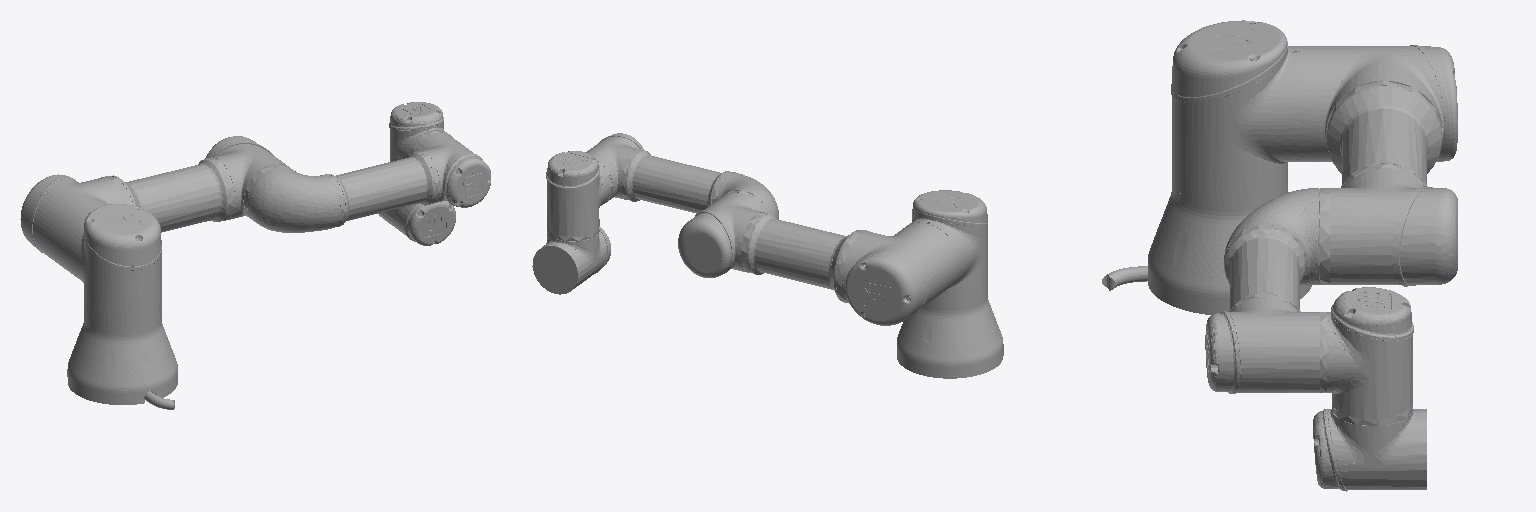
URDF robot description (ur3):
<?xml version="1.0" encoding="utf-8"?>
<!-- =================================================================================== -->
<!-- |    This document was autogenerated by xacro from ur3_robot.urdf.xacro           | -->
<!-- |    EDITING THIS FILE BY HAND IS NOT RECOMMENDED                                 | -->
<!-- =================================================================================== -->
<robot name="ur3" xmlns:xacro="http://wiki.ros.org/xacro">
  <gazebo>
    <plugin filename="libgazebo_ros_control.so" name="ros_control">
      <!--robotNamespace>/</robotNamespace-->
      <!--robotSimType>gazebo_ros_control/DefaultRobotHWSim</robotSimType-->
    </plugin>
    <!--
    <plugin name="gazebo_ros_power_monitor_controller" filename="libgazebo_ros_power_monitor.so">
      <alwaysOn>true</alwaysOn>
      <updateRate>1.0</updateRate>
      <timeout>5</timeout>
      <powerStateTopic>power_state</powerStateTopic>
      <powerStateRate>10.0</powerStateRate>
      <fullChargeCapacity>87.78</fullChargeCapacity>     
      <dischargeRate>-474</dischargeRate>
      <chargeRate>525</chargeRate>
      <dischargeVoltage>15.52</dischargeVoltage>
      <chargeVoltage>16.41</chargeVoltage>
    </plugin>
-->
  </gazebo>
  <!--
  Author: [author]
-->
  <!-- measured from model -->
  <link name="base_link">
    <visual>
      <geometry>
        <mesh filename="package://ur_description/meshes/ur3/visual/base.dae"/>
      </geometry>
      <material name="LightGrey">
        <color rgba="0.7 0.7 0.7 1.0"/>
      </material>
    </visual>
    <collision>
      <geometry>
        <mesh filename="package://ur_description/meshes/ur3/collision/base.stl"/>
      </geometry>
    </collision>
    <inertial>
      <mass value="2.0"/>
      <origin rpy="0 0 0" xyz="0.0 0.0 0.0"/>
      <inertia ixx="0.0030531654454" ixy="0.0" ixz="0.0" iyy="0.0030531654454" iyz="0.0" izz="0.005625"/>
    </inertial>
  </link>
  <joint name="shoulder_pan_joint" type="revolute">
    <parent link="base_link"/>
    <child link="shoulder_link"/>
    <origin rpy="0.0 0.0 0.0" xyz="0.0 0.0 0.1519"/>
    <axis xyz="0 0 1"/>
    <limit effort="330.0" lower="-6.28318530718" upper="6.28318530718" velocity="2.16"/>
    <dynamics damping="0.0" friction="0.0"/>
  </joint>
  <link name="shoulder_link">
    <visual>
      <geometry>
        <mesh filename="package://ur_description/meshes/ur3/visual/shoulder.dae"/>
      </geometry>
      <material name="LightGrey">
        <color rgba="0.7 0.7 0.7 1.0"/>
      </material>
    </visual>
    <collision>
      <geometry>
        <mesh filename="package://ur_description/meshes/ur3/collision/shoulder.stl"/>
      </geometry>
    </collision>
    <inertial>
      <mass value="2.0"/>
      <origin rpy="0 0 0" xyz="0.0 0.0 0.0"/>
      <inertia ixx="0.0080931634294" ixy="0.0" ixz="0.0" iyy="0.0080931634294" iyz="0.0" izz="0.005625"/>
    </inertial>
  </link>
  <joint name="shoulder_lift_joint" type="revolute">
    <parent link="shoulder_link"/>
    <child link="upper_arm_link"/>
    <origin rpy="0.0 1.57079632679 0.0" xyz="0.0 0.1198 0.0"/>
    <axis xyz="0 1 0"/>
    <limit effort="330.0" lower="-6.28318530718" upper="6.28318530718" velocity="2.16"/>
    <dynamics damping="0.0" friction="0.0"/>
  </joint>
  <link name="upper_arm_link">
    <visual>
      <geometry>
        <mesh filename="package://ur_description/meshes/ur3/visual/upperarm.dae"/>
      </geometry>
      <material name="LightGrey">
        <color rgba="0.7 0.7 0.7 1.0"/>
      </material>
    </visual>
    <collision>
      <geometry>
        <mesh filename="package://ur_description/meshes/ur3/collision/upperarm.stl"/>
      </geometry>
    </collision>
    <inertial>
      <mass value="3.42"/>
      <origin rpy="0 0 0" xyz="0.0 0.0 0.121825"/>
      <inertia ixx="0.0217284832211" ixy="0.0" ixz="0.0" iyy="0.0217284832211" iyz="0.0" izz="0.00961875"/>
    </inertial>
  </link>
  <joint name="elbow_joint" type="revolute">
    <parent link="upper_arm_link"/>
    <child link="forearm_link"/>
    <origin rpy="0.0 0.0 0.0" xyz="0.0 -0.0925 0.24365"/>
    <axis xyz="0 1 0"/>
    <limit effort="150.0" lower="-3.14159265359" upper="3.14159265359" velocity="3.15"/>
    <dynamics damping="0.0" friction="0.0"/>
  </joint>
  <link name="forearm_link">
    <visual>
      <geometry>
        <mesh filename="package://ur_description/meshes/ur3/visual/forearm.dae"/>
      </geometry>
      <material name="LightGrey">
        <color rgba="0.7 0.7 0.7 1.0"/>
      </material>
    </visual>
    <collision>
      <geometry>
        <mesh filename="package://ur_description/meshes/ur3/collision/forearm.stl"/>
      </geometry>
    </collision>
    <inertial>
      <mass value="1.26"/>
      <origin rpy="0 0 0" xyz="0.0 0.0 0.106625"/>
      <inertia ixx="0.00654680644378" ixy="0.0" ixz="0.0" iyy="0.00654680644378" iyz="0.0" izz="0.00354375"/>
    </inertial>
  </link>
  <joint name="wrist_1_joint" type="revolute">
    <parent link="forearm_link"/>
    <child link="wrist_1_link"/>
    <origin rpy="0.0 1.57079632679 0.0" xyz="0.0 0.0 0.21325"/>
    <axis xyz="0 1 0"/>
    <limit effort="54.0" lower="-6.28318530718" upper="6.28318530718" velocity="3.2"/>
    <dynamics damping="0.0" friction="0.0"/>
  </joint>
  <link name="wrist_1_link">
    <visual>
      <geometry>
        <mesh filename="package://ur_description/meshes/ur3/visual/wrist1.dae"/>
      </geometry>
      <material name="LightGrey">
        <color rgba="0.7 0.7 0.7 1.0"/>
      </material>
    </visual>
    <collision>
      <geometry>
        <mesh filename="package://ur_description/meshes/ur3/collision/wrist1.stl"/>
      </geometry>
    </collision>
    <inertial>
      <mass value="0.8"/>
      <origin rpy="0 0 0" xyz="0.0 0.0 0.0"/>
      <inertia ixx="0.002084999166" ixy="0.0" ixz="0.0" iyy="0.002084999166" iyz="0.0" izz="0.00225"/>
    </inertial>
  </link>
  <joint name="wrist_2_joint" type="revolute">
    <parent link="wrist_1_link"/>
    <child link="wrist_2_link"/>
    <origin rpy="0.0 0.0 0.0" xyz="0.0 0.08505 0.0"/>
    <axis xyz="0 0 1"/>
    <limit effort="54.0" lower="-6.28318530718" upper="6.28318530718" velocity="3.2"/>
    <dynamics damping="0.0" friction="0.0"/>
  </joint>
  <link name="wrist_2_link">
    <visual>
      <geometry>
        <mesh filename="package://ur_description/meshes/ur3/visual/wrist2.dae"/>
      </geometry>
      <material name="LightGrey">
        <color rgba="0.7 0.7 0.7 1.0"/>
      </material>
    </visual>
    <collision>
      <geometry>
        <mesh filename="package://ur_description/meshes/ur3/collision/wrist2.stl"/>
      </geometry>
    </collision>
    <inertial>
      <mass value="0.8"/>
      <origin rpy="0 0 0" xyz="0.0 0.0 0.0"/>
      <inertia ixx="0.002084999166" ixy="0.0" ixz="0.0" iyy="0.002084999166" iyz="0.0" izz="0.00225"/>
    </inertial>
  </link>
  <joint name="wrist_3_joint" type="revolute">
    <parent link="wrist_2_link"/>
    <child link="wrist_3_link"/>
    <origin rpy="0.0 0.0 0.0" xyz="0.0 0.0 0.08535"/>
    <axis xyz="0 1 0"/>
    <limit effort="54.0" lower="-6.28318530718" upper="6.28318530718" velocity="3.2"/>
    <dynamics damping="0.0" friction="0.0"/>
  </joint>
  <link name="wrist_3_link">
    <visual>
      <geometry>
        <mesh filename="package://ur_description/meshes/ur3/visual/wrist3.dae"/>
      </geometry>
      <material name="LightGrey">
        <color rgba="0.7 0.7 0.7 1.0"/>
      </material>
    </visual>
    <collision>
      <geometry>
        <mesh filename="package://ur_description/meshes/ur3/collision/wrist3.stl"/>
      </geometry>
    </collision>
    <inertial>
      <mass value="0.35"/>
      <origin rpy="0 0 0" xyz="0.0 0.0 0.0"/>
      <inertia ixx="0.000912187135125" ixy="0.0" ixz="0.0" iyy="0.000912187135125" iyz="0.0" izz="0.000984375"/>
    </inertial>
  </link>
  <joint name="ee_fixed_joint" type="fixed">
    <parent link="wrist_3_link"/>
    <child link="ee_link"/>
    <origin rpy="0.0 0.0 1.57079632679" xyz="0.0 0.0819 0.0"/>
  </joint>
  <link name="ee_link">
    <collision>
      <geometry>
        <box size="0.01 0.01 0.01"/>
      </geometry>
      <origin rpy="0 0 0" xyz="-0.01 0 0"/>
    </collision>
  </link>
  <transmission name="shoulder_pan_trans">
    <type>transmission_interface/SimpleTransmission</type>
    <joint name="shoulder_pan_joint">
      <hardwareInterface>hardware_interface/PositionJointInterface</hardwareInterface>
    </joint>
    <actuator name="shoulder_pan_motor">
      <mechanicalReduction>1</mechanicalReduction>
    </actuator>
  </transmission>
  <transmission name="shoulder_lift_trans">
    <type>transmission_interface/SimpleTransmission</type>
    <joint name="shoulder_lift_joint">
      <hardwareInterface>hardware_interface/PositionJointInterface</hardwareInterface>
    </joint>
    <actuator name="shoulder_lift_motor">
      <mechanicalReduction>1</mechanicalReduction>
    </actuator>
  </transmission>
  <transmission name="elbow_trans">
    <type>transmission_interface/SimpleTransmission</type>
    <joint name="elbow_joint">
      <hardwareInterface>hardware_interface/PositionJointInterface</hardwareInterface>
    </joint>
    <actuator name="elbow_motor">
      <mechanicalReduction>1</mechanicalReduction>
    </actuator>
  </transmission>
  <transmission name="wrist_1_trans">
    <type>transmission_interface/SimpleTransmission</type>
    <joint name="wrist_1_joint">
      <hardwareInterface>hardware_interface/PositionJointInterface</hardwareInterface>
    </joint>
    <actuator name="wrist_1_motor">
      <mechanicalReduction>1</mechanicalReduction>
    </actuator>
  </transmission>
  <transmission name="wrist_2_trans">
    <type>transmission_interface/SimpleTransmission</type>
    <joint name="wrist_2_joint">
      <hardwareInterface>hardware_interface/PositionJointInterface</hardwareInterface>
    </joint>
    <actuator name="wrist_2_motor">
      <mechanicalReduction>1</mechanicalReduction>
    </actuator>
  </transmission>
  <transmission name="wrist_3_trans">
    <type>transmission_interface/SimpleTransmission</type>
    <joint name="wrist_3_joint">
      <hardwareInterface>hardware_interface/PositionJointInterface</hardwareInterface>
    </joint>
    <actuator name="wrist_3_motor">
      <mechanicalReduction>1</mechanicalReduction>
    </actuator>
  </transmission>
  <gazebo reference="shoulder_link">
    <selfCollide>true</selfCollide>
  </gazebo>
  <gazebo reference="upper_arm_link">
    <selfCollide>true</selfCollide>
  </gazebo>
  <gazebo reference="forearm_link">
    <selfCollide>true</selfCollide>
  </gazebo>
  <gazebo reference="wrist_1_link">
    <selfCollide>true</selfCollide>
  </gazebo>
  <gazebo reference="wrist_3_link">
    <selfCollide>true</selfCollide>
  </gazebo>
  <gazebo reference="wrist_2_link">
    <selfCollide>true</selfCollide>
  </gazebo>
  <gazebo reference="ee_link">
    <selfCollide>true</selfCollide>
  </gazebo>
  <!-- ROS base_link to UR 'Base' Coordinates transform -->
  <link name="base"/>
  <joint name="base_link-base_fixed_joint" type="fixed">
    <!-- NOTE: this rotation is only needed as long as base_link itself is
                 not corrected wrt the real robot (ie: rotated over 180
                 degrees)
      -->
    <origin rpy="0 0 -3.14159265359" xyz="0 0 0"/>
    <parent link="base_link"/>
    <child link="base"/>
  </joint>
  <!-- Frame coincident with all-zeros TCP on UR controller -->
  <link name="tool0"/>
  <joint name="wrist_3_link-tool0_fixed_joint" type="fixed">
    <origin rpy="-1.57079632679 0 0" xyz="0 0.0819 0"/>
    <parent link="wrist_3_link"/>
    <child link="tool0"/>
  </joint>
  <link name="world"/>
  <joint name="world_joint" type="fixed">
    <parent link="world"/>
    <child link="base_link"/>
    <origin rpy="0.0 0.0 0.0" xyz="0.0 0.0 0.0"/>
  </joint>
</robot>

--- Render facts (derived) ---
Views: 3 orthographic renders of the robot side by side, from view 1: azimuth 30°, elevation 25°; view 2: azimuth 150°, elevation 25°; view 3: azimuth 270°, elevation 25°.
Robot: ur3 — 11 links, 10 joints (6 revolute, 4 fixed); root link world; default pose: every joint at zero.
Visible links, largest first — view 1: forearm_link, upper_arm_link, shoulder_link, base_link, wrist_1_link, wrist_2_link; view 2: upper_arm_link, forearm_link, base_link, shoulder_link, wrist_1_link, wrist_2_link; view 3: upper_arm_link, shoulder_link, forearm_link, wrist_1_link, base_link, wrist_2_link.
Boxes of the visible links, x1,y1,x2,y2 form: forearm_link: (247, 132, 490, 232); upper_arm_link: (20, 136, 289, 273); shoulder_link: (66, 204, 161, 330); base_link: (67, 316, 177, 409); wrist_1_link: (389, 102, 451, 161); wrist_2_link: (378, 201, 455, 245); upper_arm_link: (678, 190, 959, 325); forearm_link: (586, 133, 778, 219); base_link: (897, 292, 1003, 378); shoulder_link: (907, 190, 987, 306); wrist_1_link: (546, 151, 612, 236); wrist_2_link: (532, 226, 610, 294); upper_arm_link: (1300, 45, 1457, 286); shoulder_link: (1171, 20, 1299, 204); forearm_link: (1205, 188, 1319, 393); wrist_1_link: (1320, 287, 1413, 418); base_link: (1102, 184, 1311, 314); wrist_2_link: (1313, 404, 1426, 491).
Bounding box of the posed robot: 0.5531 × 0.2765 × 0.2097 m (x, y, z).
Meshes: 7 distinct files referenced, 6 mesh visuals loaded (6 Collada DAE); not drawn: 1 (reference not matched to a file when rendering).